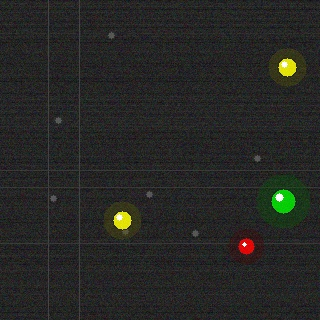green_normal: (269, 187, 297, 215)
red_fault: (236, 236, 256, 256)
yellow_warning: (276, 56, 298, 78), (111, 209, 133, 231)
